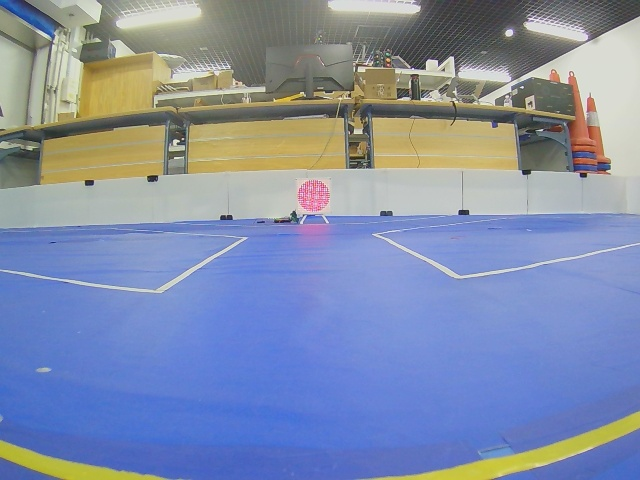red: (297, 179, 331, 214)
